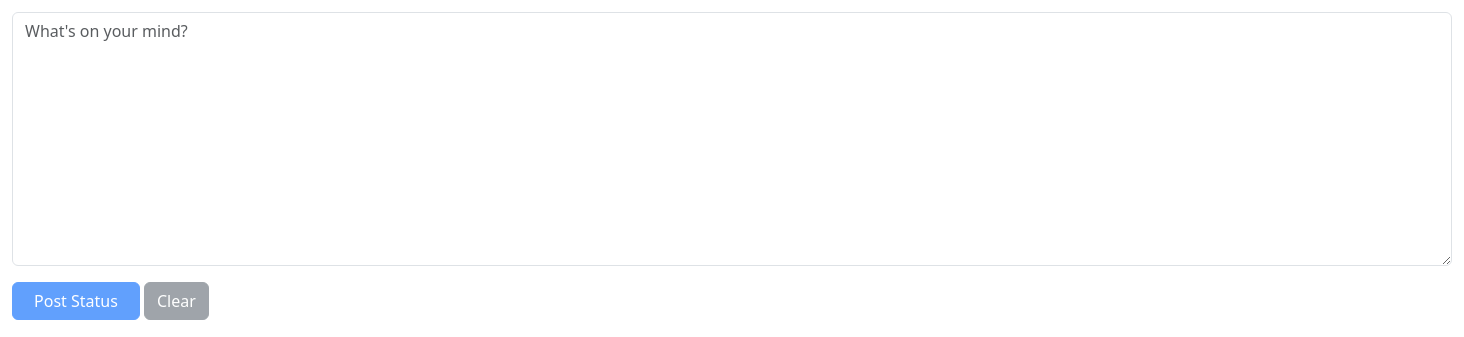
Post Status Component › enables both buttons when the text field has text
The image size is (1464, 337).
Type "a" into the text box named "post" at (732, 139), box [12,12,1452,266]
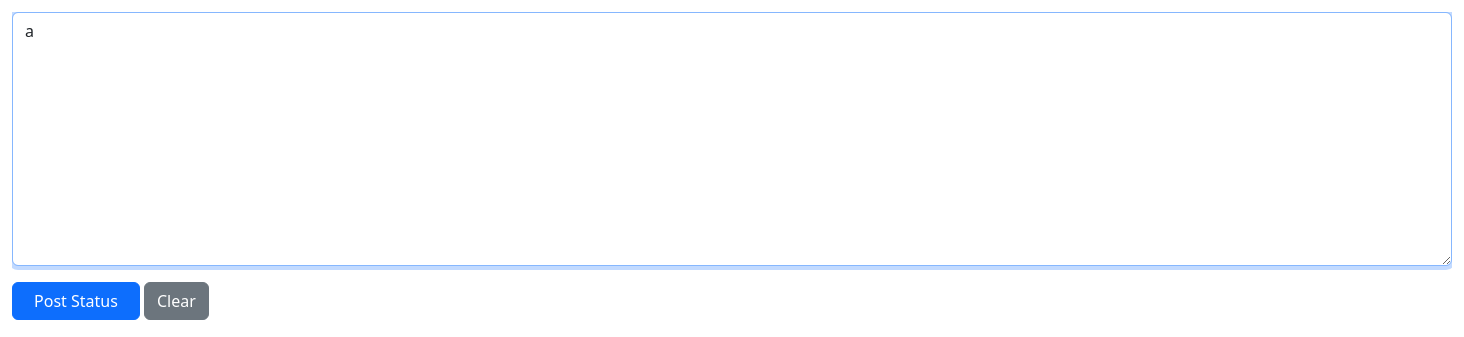
Expected: the button "Post Status" is enabled, [12,282,140,320]
Expected: the button "Clear" is enabled, [144,282,209,320]
